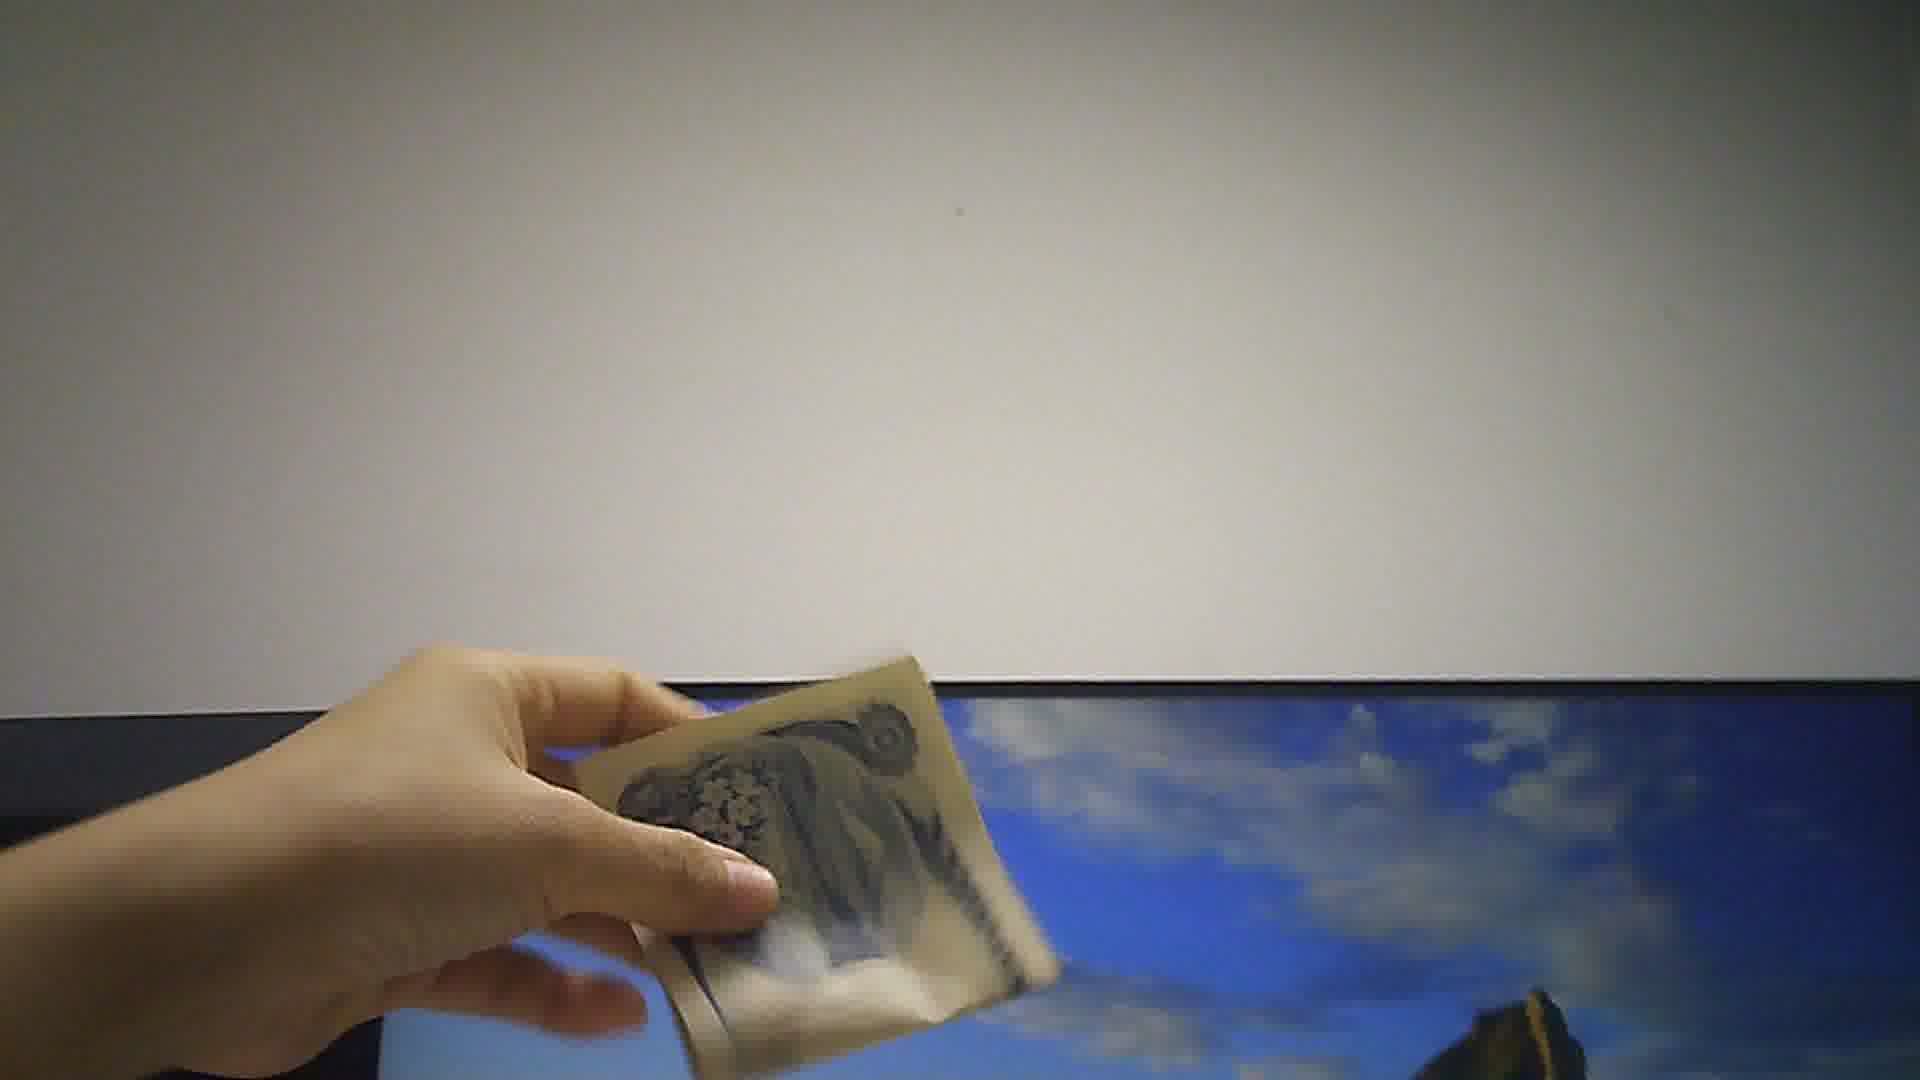1,000 Yen: (571, 655, 1072, 1077)
